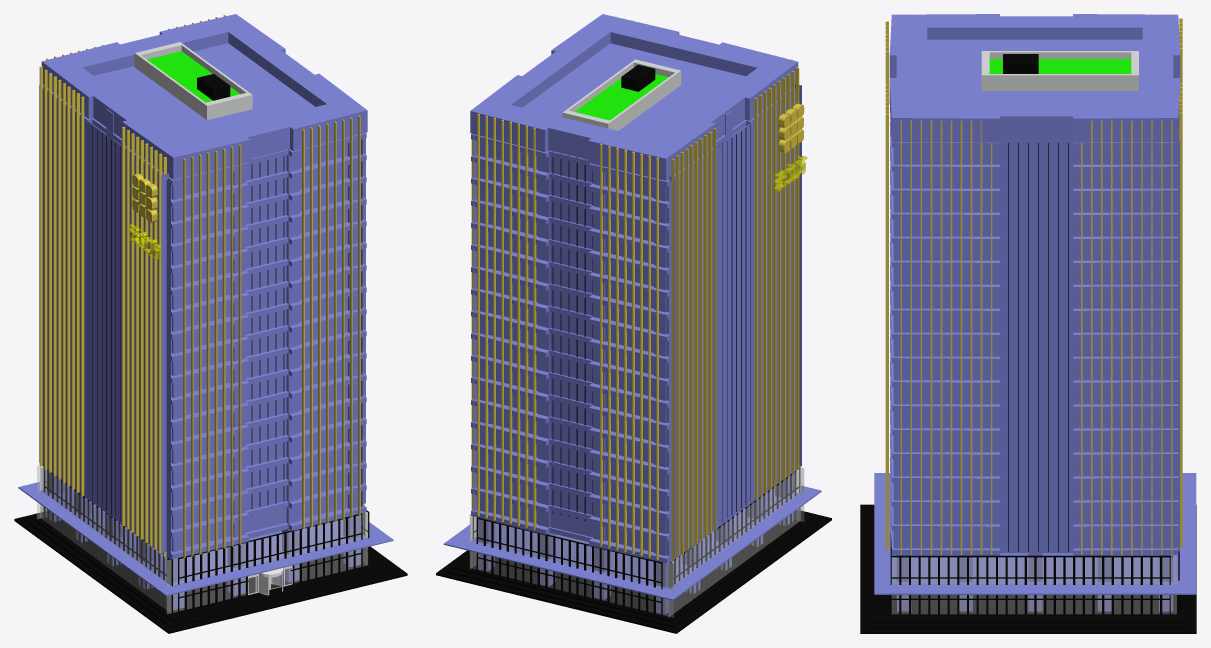
Rendered from floor1.glb.
3 renders of one model, left to right at view 1: azimuth 30°, elevation 25°; view 2: azimuth 150°, elevation 25°; view 3: azimuth 270°, elevation 25°, orthographic. The views are drawn at different scales.
Visible parts, largest first — view 1: glass; view 2: glass; view 3: glass.
Part boxes in pixels (x1,y1,x2,y2): glass: (14, 14, 407, 633); glass: (436, 14, 831, 633); glass: (860, 14, 1196, 633).
Size of the model in its own units: 42 by 79.38 by 47.
